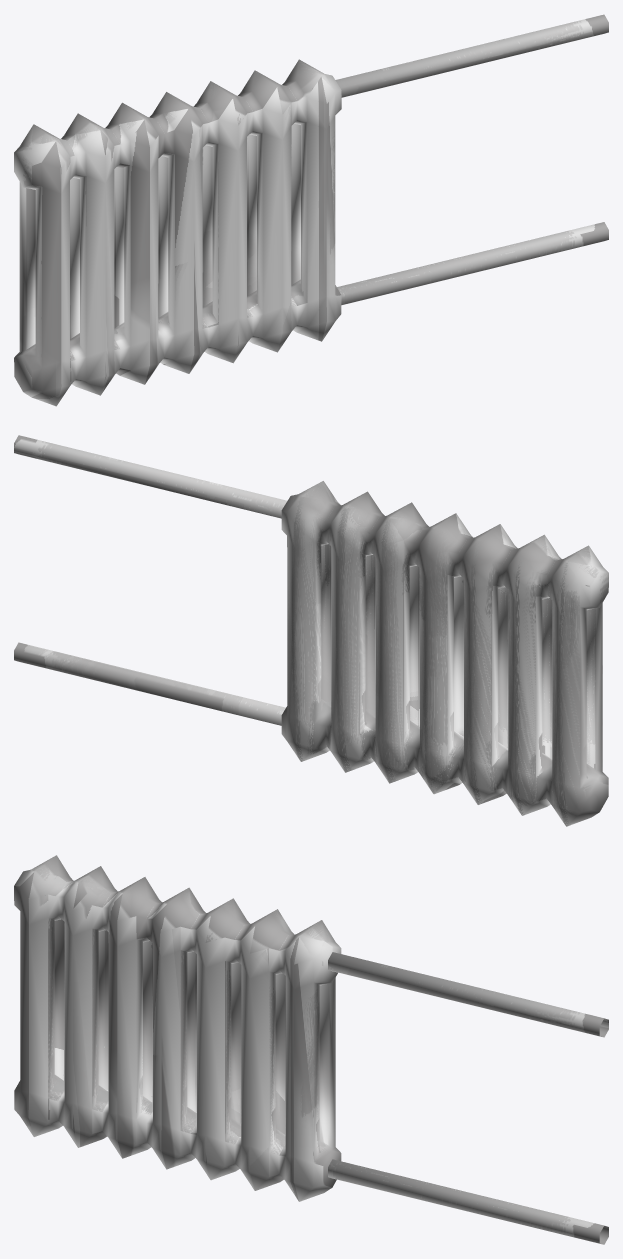
File: radiator.fbx
3 renders of one model, top to bottom at view 1: azimuth 30°, elevation 25°; view 2: azimuth 150°, elevation 25°; view 3: azimuth 330°, elevation 25°, orthographic.
Parts seen in each view (by area): view 1: radiator.002; view 2: radiator.002; view 3: radiator.002.
Boxes of the visible parts, bbox=[...] form: radiator.002: bbox=[14, 14, 608, 406]; radiator.002: bbox=[14, 435, 608, 826]; radiator.002: bbox=[14, 855, 608, 1244].
Bounding box in the file's own units: 147 × 64.19 × 14.58.
1 material, 1 textured.
